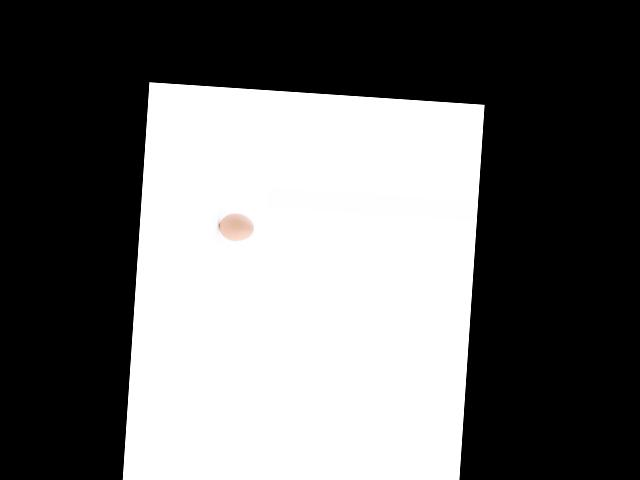egg: (218, 211, 254, 241)
